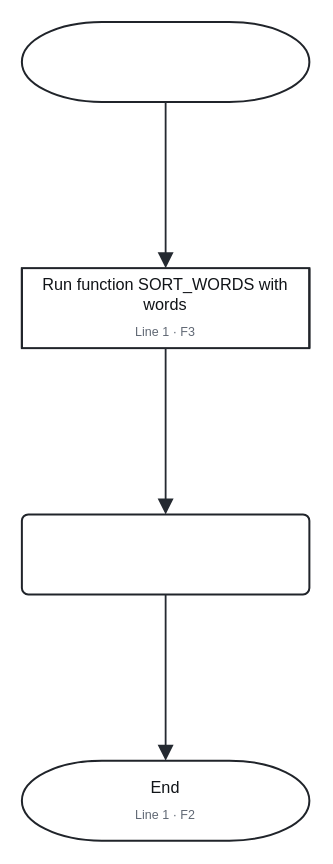
Image size: 333x864. Some labels were removed from this diagram. The shapes that lost their labels are listed below. From the top down, each one's centre as x and y in pixels, then its label:
point 165,61: Start Line 1 · F1
point 165,554: Return the result of sort_value(words) Line 2 · F4
